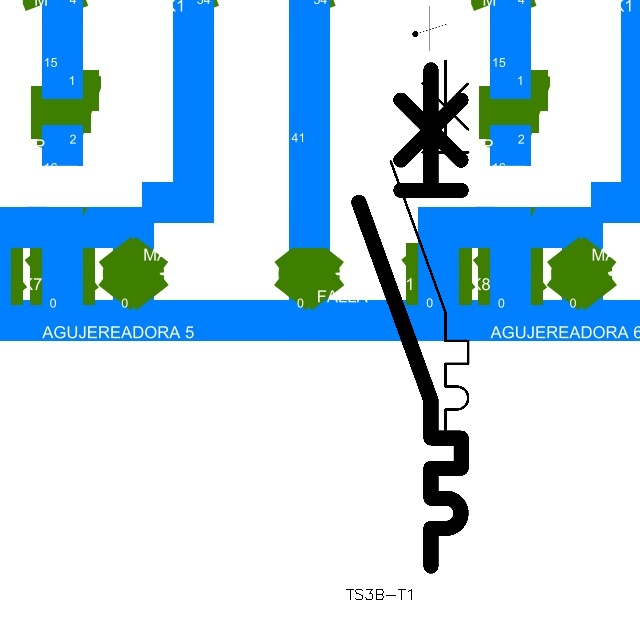interruptor_termomagnetico: (346, 57, 474, 579), (381, 50, 478, 447)
